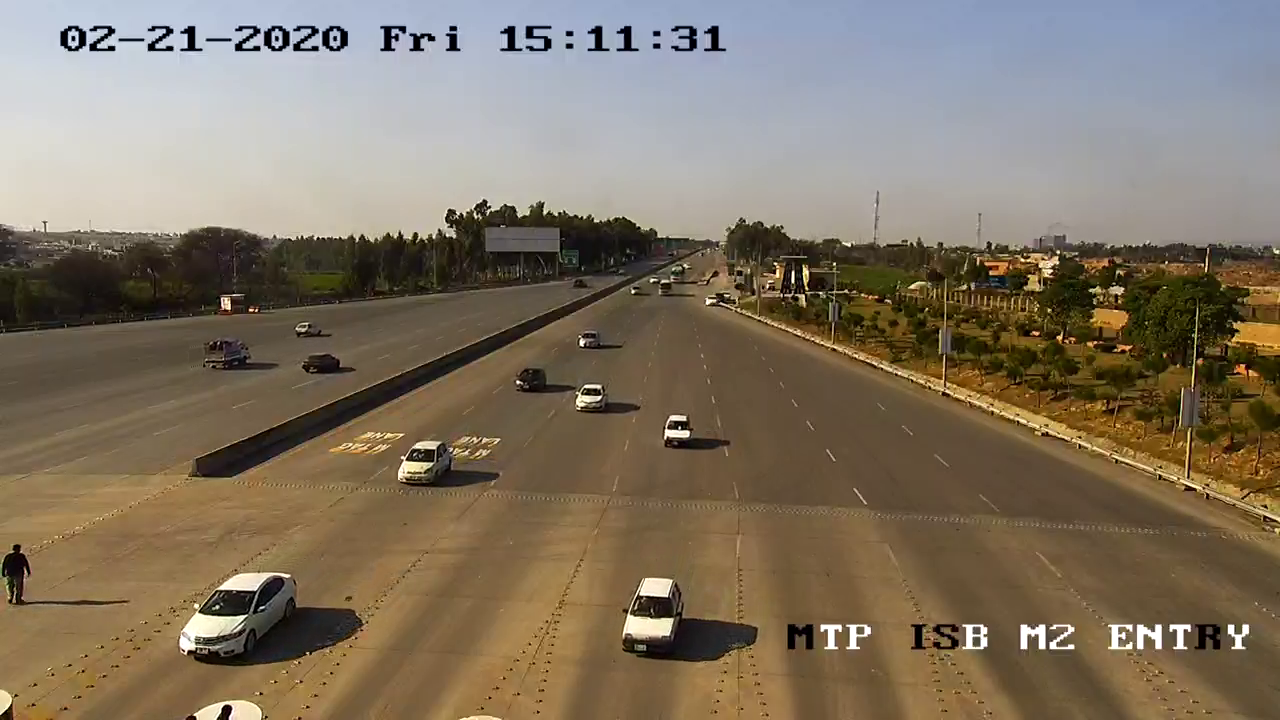f1: (167, 558, 309, 668), (610, 573, 695, 666), (393, 435, 460, 496), (567, 376, 615, 418), (661, 406, 699, 455)
